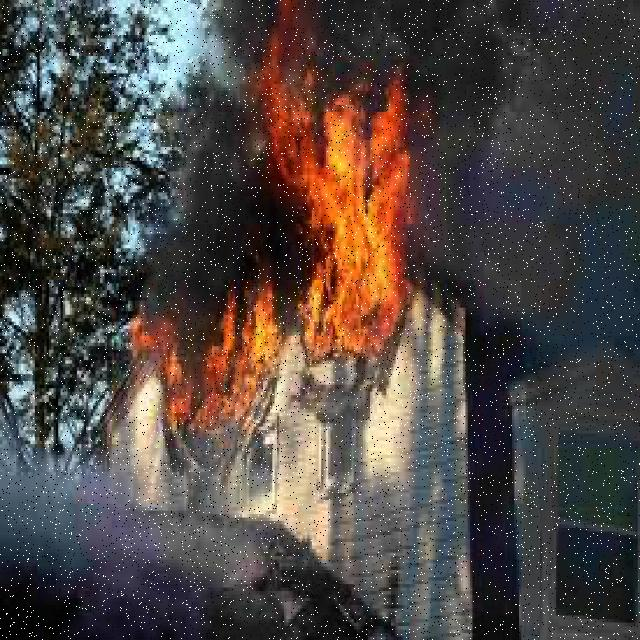fire: (286, 73, 422, 350), (149, 288, 284, 427)
smoke: (438, 16, 624, 286), (144, 86, 284, 282)
